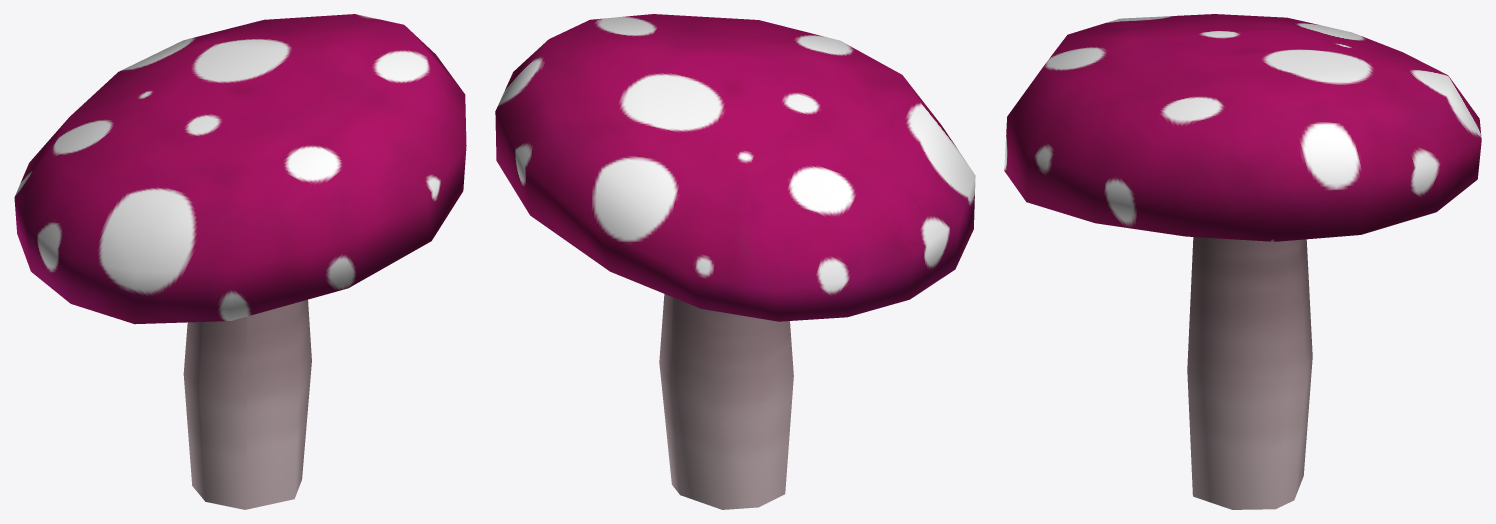
The model's file is Mushroom02.FBX.
3 views of the same model, side by side, from view 1: azimuth 30°, elevation 25°; view 2: azimuth 150°, elevation 25°; view 3: azimuth 270°, elevation 25° (orthographic). The views are drawn at different scales.
Parts seen in each view (by area): view 1: Mushroom02; view 2: Mushroom02; view 3: Mushroom02.
Part boxes in pixels (x1,y1,x2,y2): Mushroom02: (14, 14, 466, 509); Mushroom02: (495, 14, 975, 509); Mushroom02: (1004, 14, 1481, 509).
Size of the model in its own units: 1.23 by 1.19 by 1.15.
